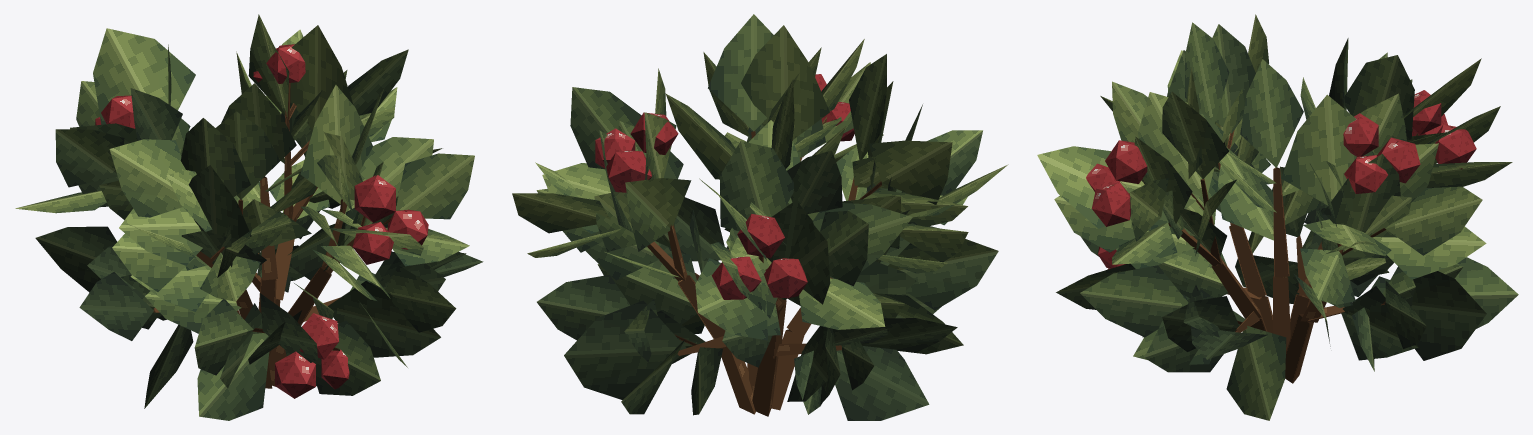
File: berry_bush.glb
The picture shows the model from 3 angles, left to right: view 1: azimuth 30°, elevation 25°; view 2: azimuth 150°, elevation 25°; view 3: azimuth 270°, elevation 25°; orthographic projection. The views are drawn at different scales.
Visible parts, largest first — view 1: Leaves, Berries, Branches; view 2: Leaves, Berries, Branches; view 3: Leaves, Berries, Branches.
Boxes of the visible parts, x1,y1,x2,y2 form: Leaves: (15, 14, 483, 420); Berries: (95, 44, 428, 398); Branches: (124, 46, 406, 388); Leaves: (512, 14, 1008, 420); Berries: (595, 74, 854, 299); Branches: (629, 103, 881, 416); Leaves: (1037, 14, 1518, 420); Berries: (1086, 90, 1476, 269); Branches: (1103, 94, 1452, 383).
Bounding box in the file's own units: 1.08 × 0.8783 × 1.19.
1 material, 1 textured.
